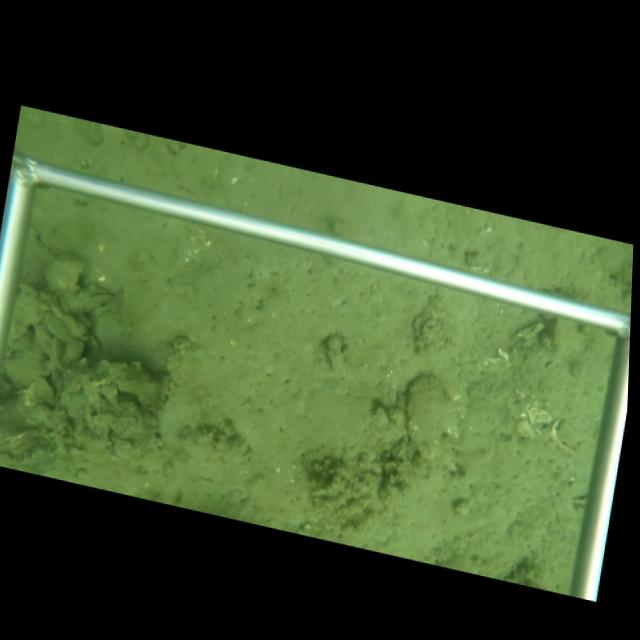Oyster-Closed: (325, 334, 345, 375)
Oyster-Indeterminate: (404, 373, 453, 461), (43, 248, 85, 294), (543, 315, 582, 362)
